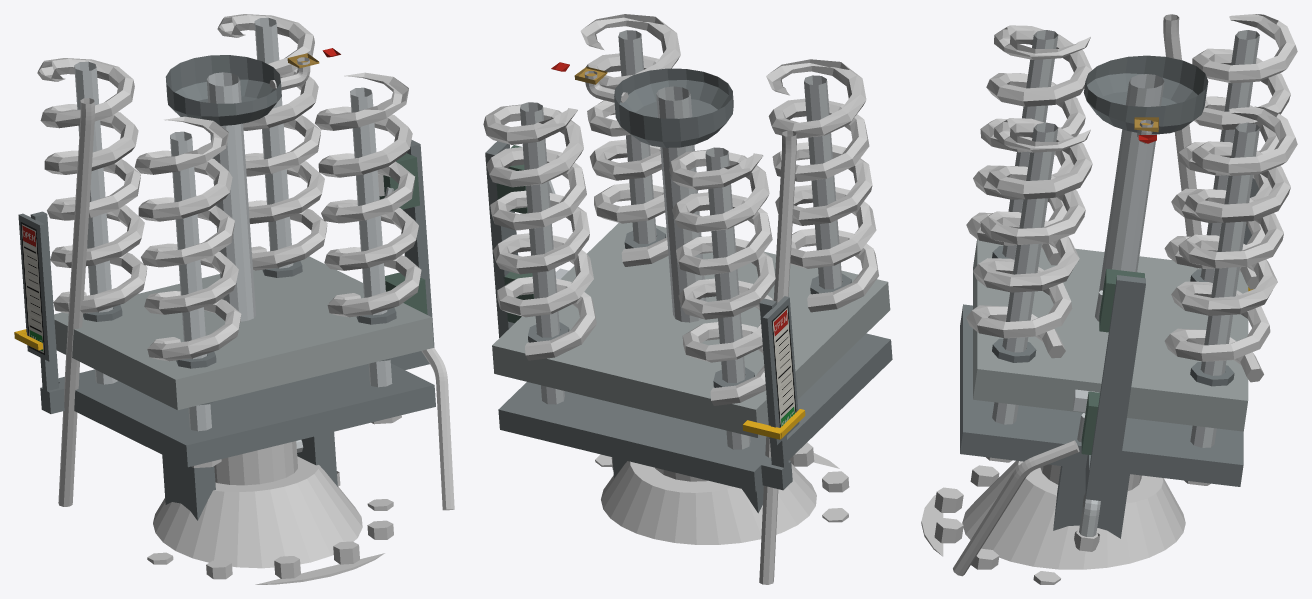
Rendered from cell_1.obj.
3 renders of one model, left to right at view 1: azimuth 30°, elevation 25°; view 2: azimuth 150°, elevation 25°; view 3: azimuth 270°, elevation 25°, orthographic. The views are drawn at different scales.
Bounding box in the file's own units: 0.8485 × 1 × 0.7723.
